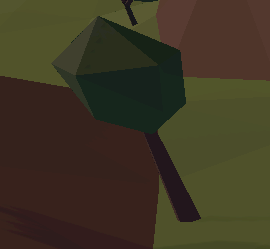tree: (39, 10, 244, 229)
